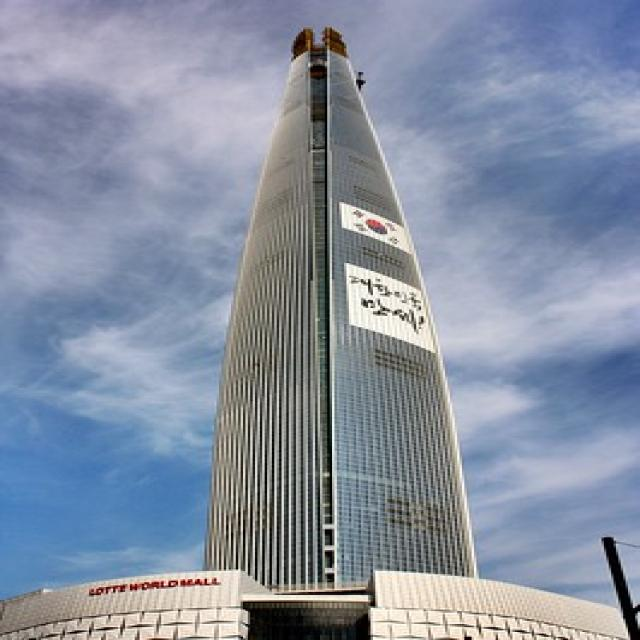building: (196, 16, 485, 584)
